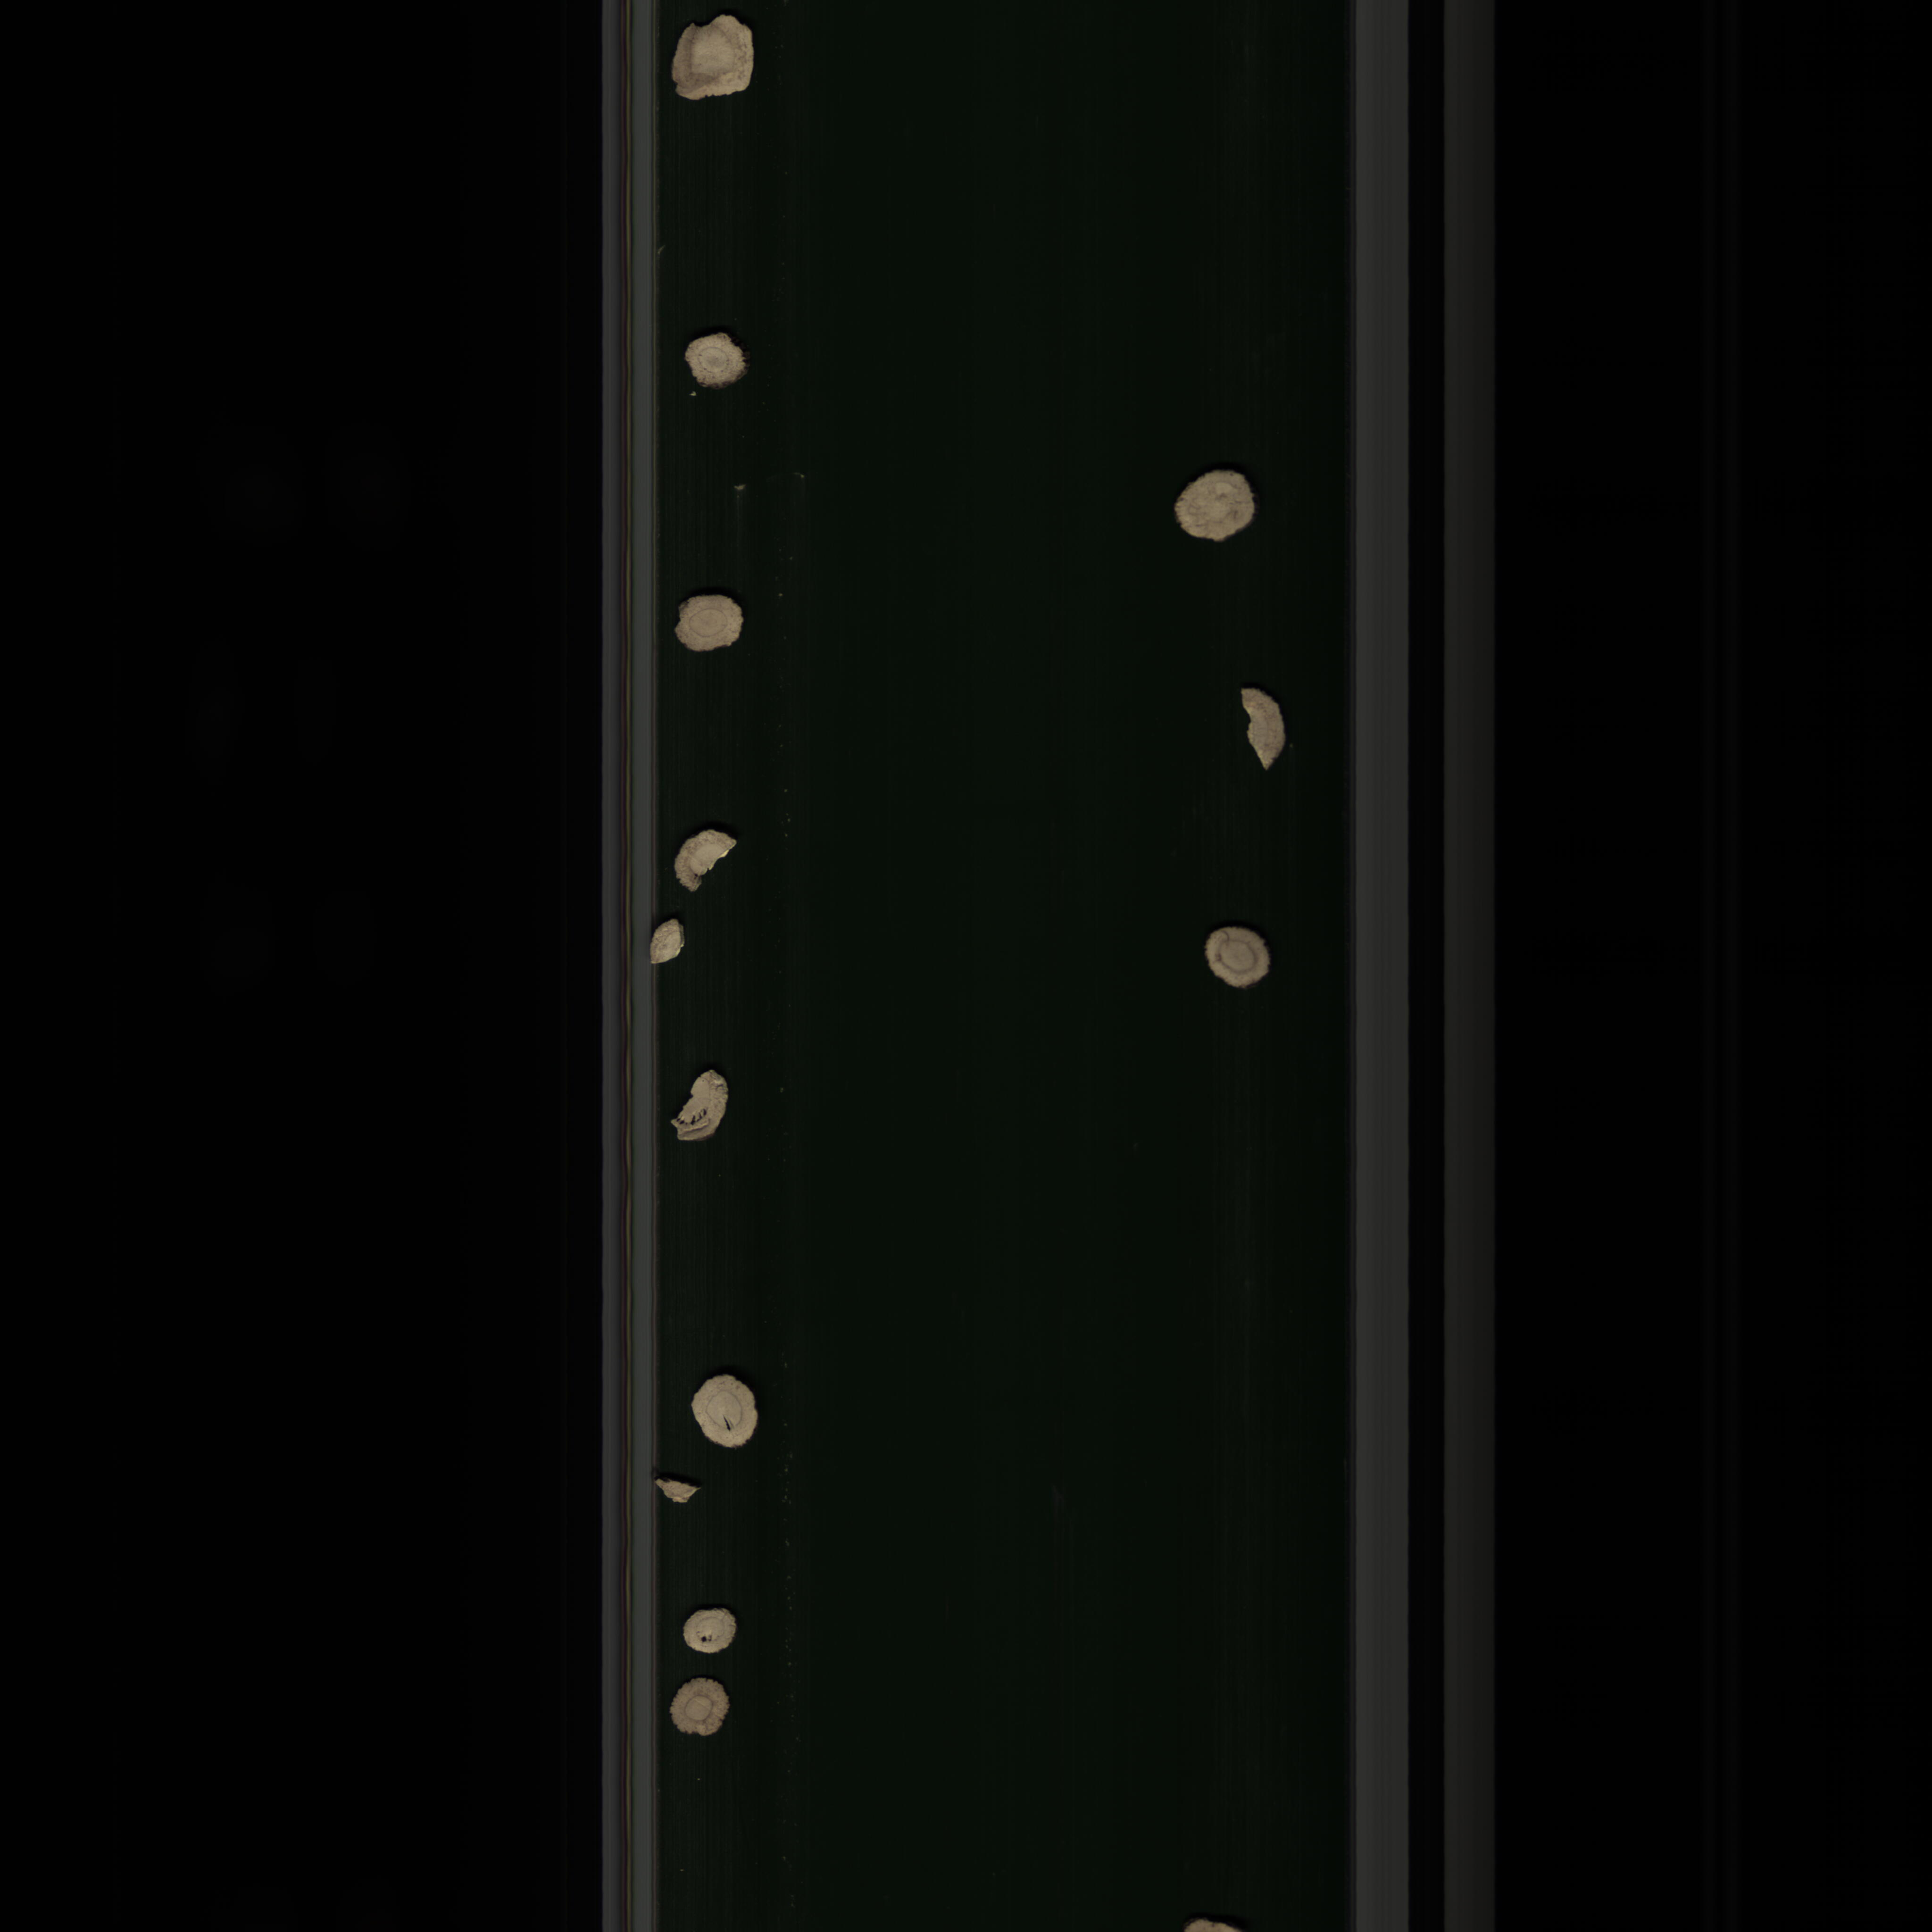bark: (649, 1465, 701, 1514)
debris: (1231, 676, 1304, 778), (656, 1058, 732, 1154), (672, 819, 748, 901), (644, 906, 694, 975)
hole: (679, 1364, 768, 1463), (672, 1610, 750, 1660)
moldy: (671, 11, 763, 113)
